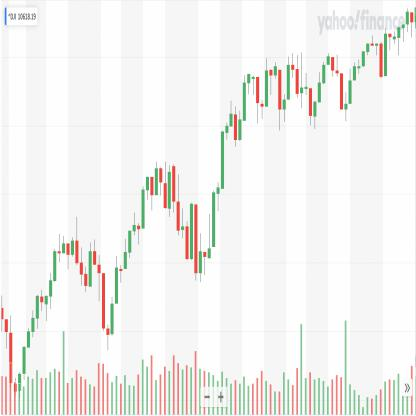Bearish: 3 Black Crows: (75, 214, 88, 297)
Bullish: 3 White Soldiers: (22, 306, 35, 382), (26, 292, 40, 352)
Bullish: Morning Star Doji: (102, 270, 115, 354), (339, 63, 352, 125)
